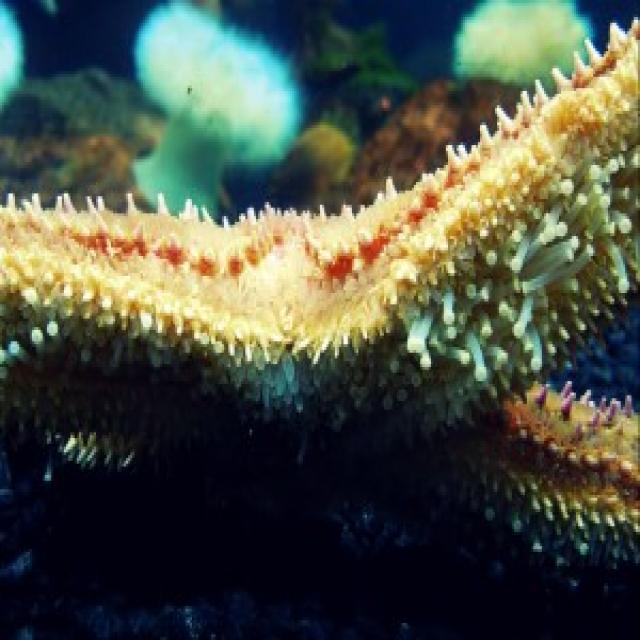Starfish: (3, 11, 640, 597)
